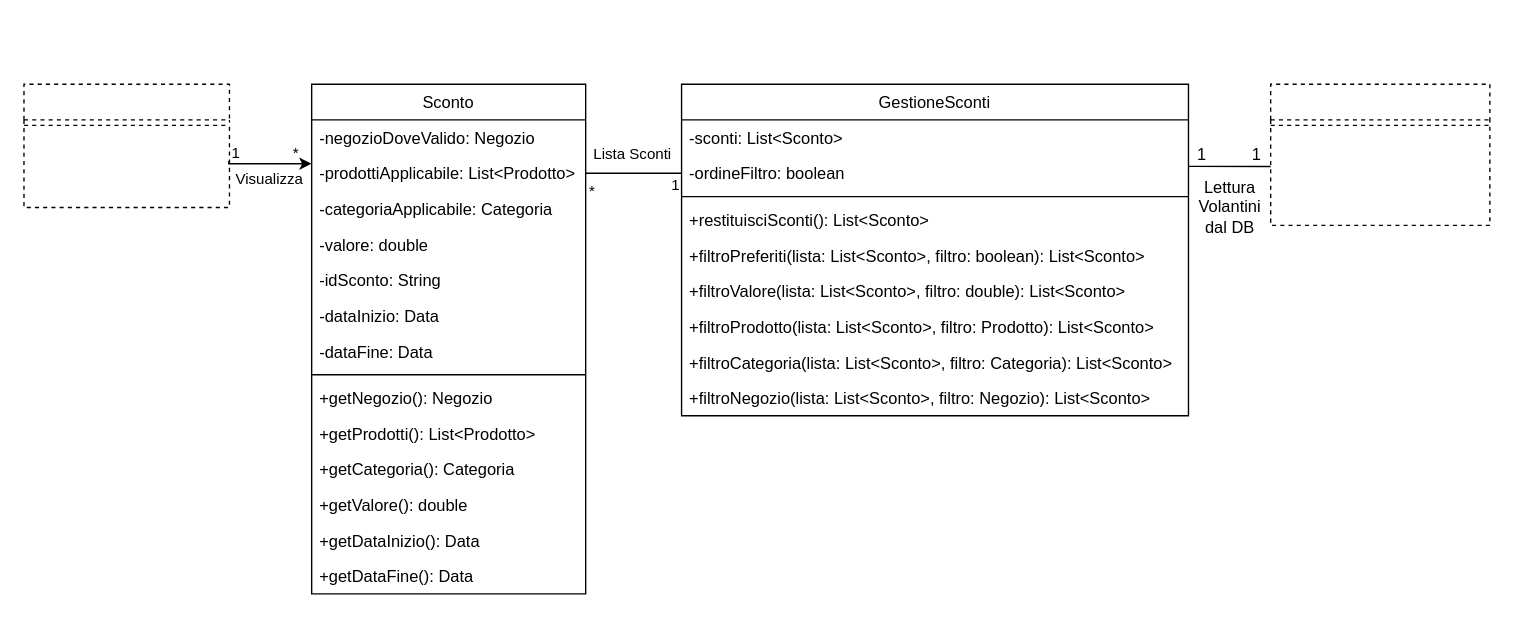
This 1514x621 diagram has some shape labels left out. Each missing label, with the centre of its shape:
LetturaDBDati: (1379,154)
Utente: (126,145)
